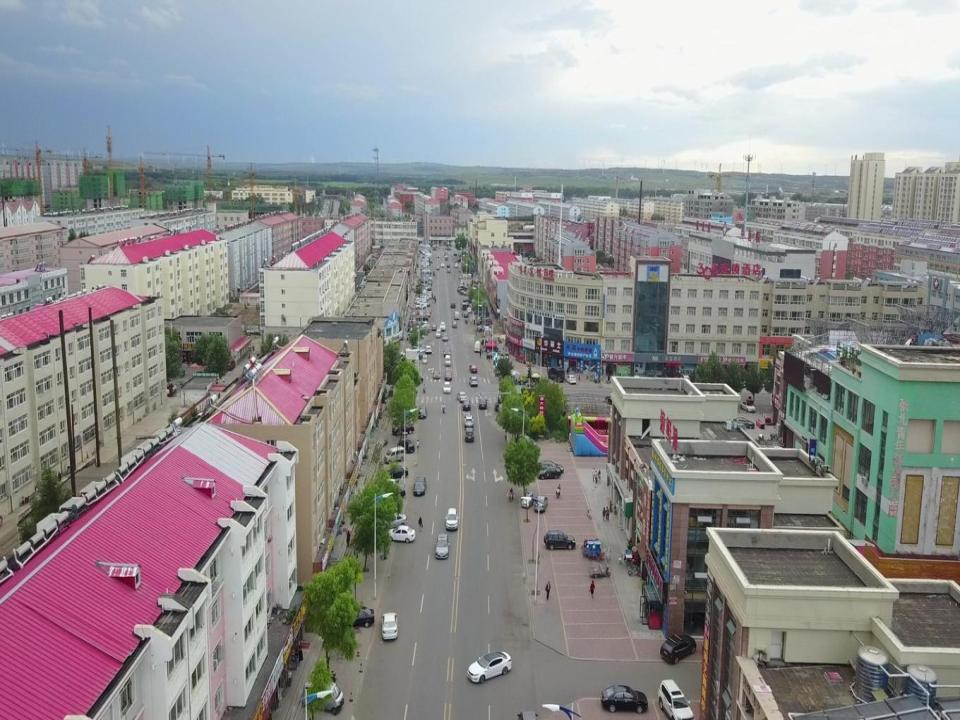car: (467, 650, 512, 682), (600, 684, 648, 714), (658, 680, 694, 720), (661, 632, 696, 664), (339, 606, 375, 628), (544, 529, 576, 550), (385, 524, 416, 543), (376, 512, 408, 528), (381, 612, 398, 639), (434, 534, 450, 559), (380, 484, 405, 499), (514, 434, 536, 450), (384, 464, 409, 478), (446, 508, 460, 531), (535, 461, 563, 472), (413, 476, 426, 496), (392, 423, 415, 434), (538, 468, 561, 479), (734, 417, 755, 429), (534, 495, 548, 512), (397, 440, 415, 452), (521, 492, 534, 508), (740, 400, 756, 412), (464, 426, 474, 441), (487, 351, 502, 361), (457, 391, 468, 403), (464, 415, 474, 426), (565, 375, 576, 384), (479, 398, 488, 409), (443, 382, 451, 394), (462, 400, 471, 410), (468, 376, 477, 386), (419, 406, 426, 418), (481, 338, 493, 345), (477, 324, 489, 331), (444, 370, 452, 380), (469, 364, 477, 373), (433, 368, 440, 378), (438, 321, 446, 329), (425, 345, 432, 353), (444, 347, 450, 356), (443, 332, 448, 341), (431, 323, 437, 330), (450, 301, 456, 308), (452, 320, 457, 328), (466, 307, 472, 313), (463, 312, 468, 317)
truck: (399, 348, 418, 362)
van: (302, 680, 344, 714), (384, 445, 404, 464), (547, 366, 565, 383), (474, 340, 481, 351), (445, 354, 451, 366), (504, 351, 509, 363), (453, 311, 460, 319), (461, 302, 467, 310), (436, 329, 441, 338)
